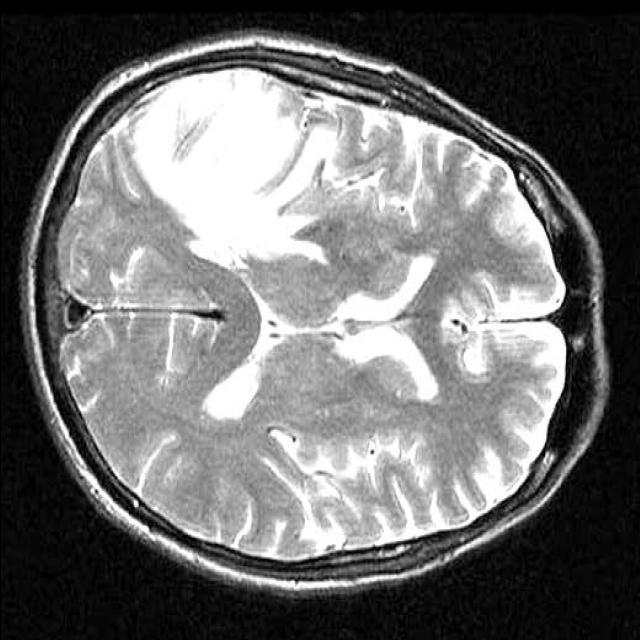tumor: (132, 69, 330, 259)
